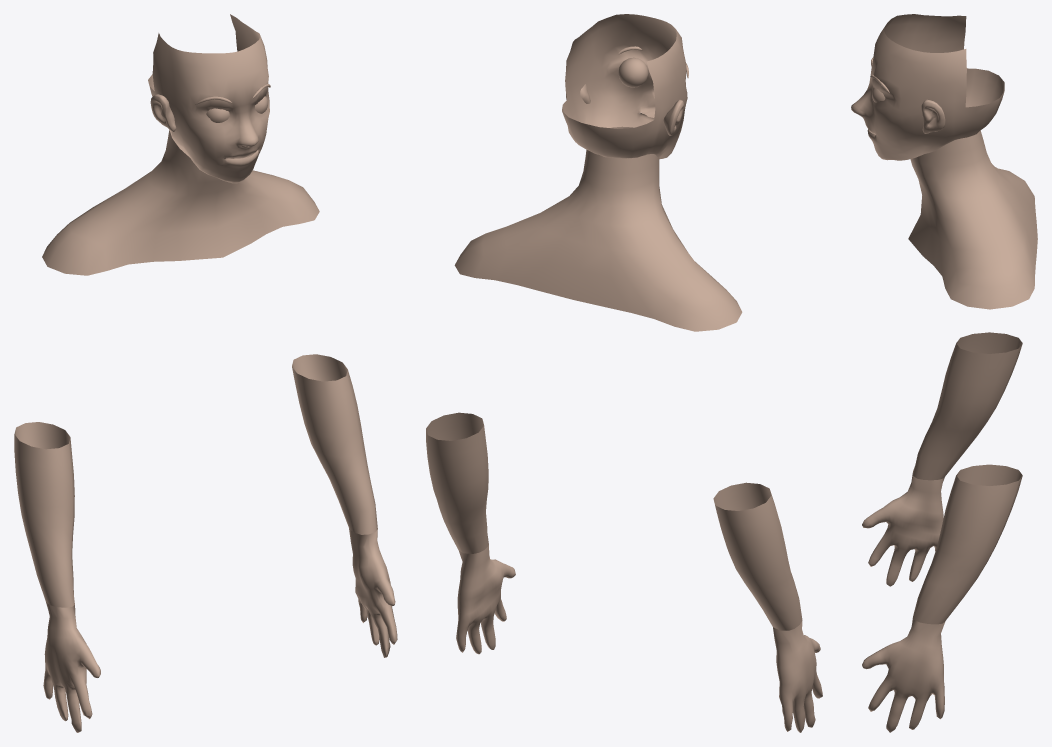
Rendered from M_Homme_LouisXV_Corps.fbx.
The picture shows the model from 3 angles, left to right: view 1: azimuth 30°, elevation 25°; view 2: azimuth 150°, elevation 25°; view 3: azimuth 270°, elevation 25°; orthographic projection. The views are drawn at different scales.
Parts seen in each view (by area): view 1: polySurface370; view 2: polySurface370; view 3: polySurface370.
Part boxes in pixels (box(x1,y1,x2,y2)): polySurface370: box(14, 14, 397, 732); polySurface370: box(426, 14, 822, 732); polySurface370: box(851, 14, 1037, 732).
Bounding box in the file's own units: 0.6393 × 0.3169 × 1.18.
